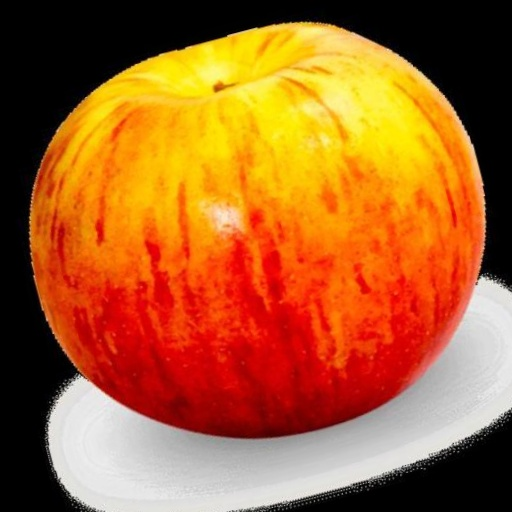fruit: (0, 184, 153, 512)
